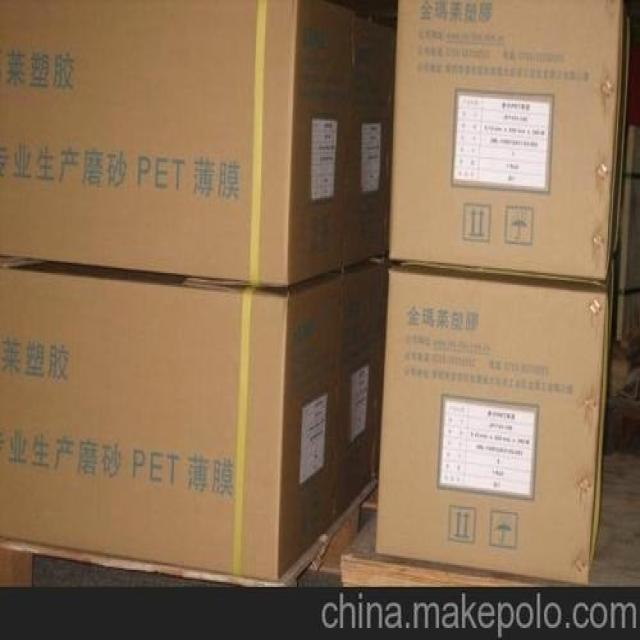box: (0, 258, 344, 582), (375, 265, 613, 585), (388, 0, 630, 282), (333, 261, 388, 524), (344, 15, 396, 268)
